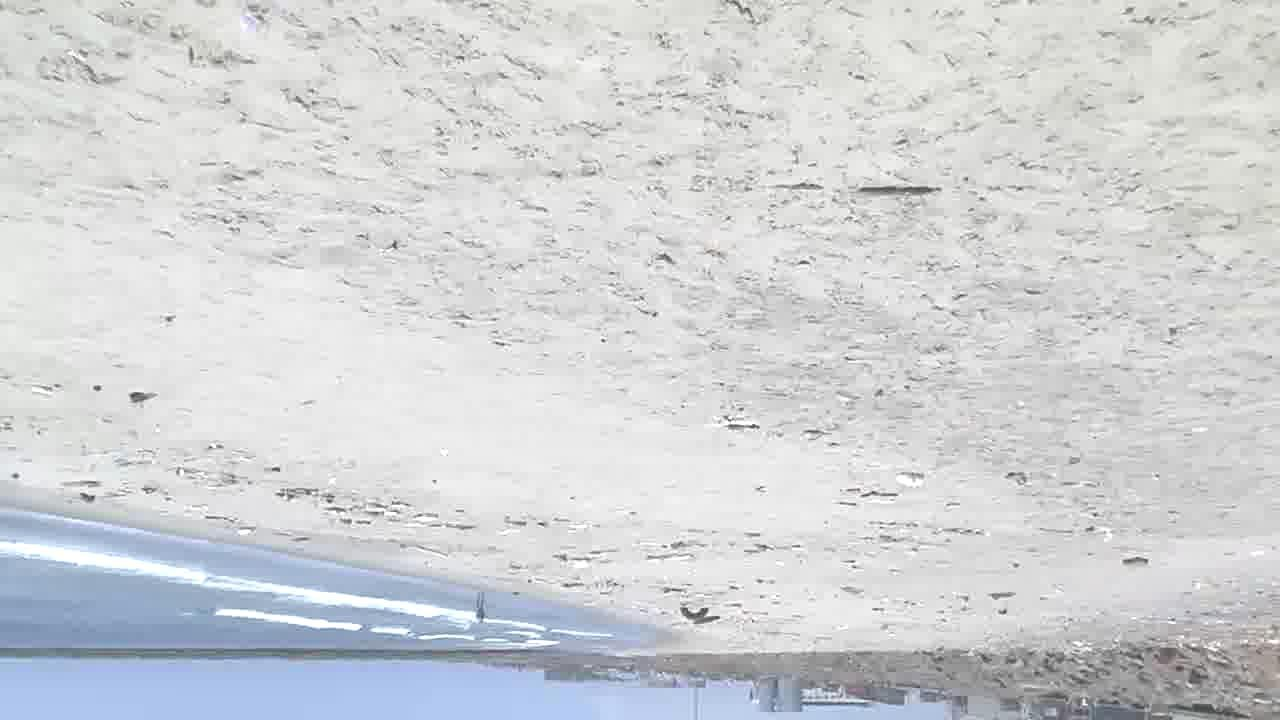large collection of objects: (474, 592, 486, 624)
obj: (680, 606, 709, 619), (1122, 558, 1150, 566)
sand/background: (1, 497, 1279, 719)
